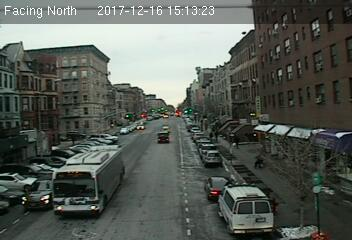bus: (52, 144, 126, 217)
car: (24, 178, 57, 205), (206, 175, 227, 199), (203, 150, 222, 165)
police: (218, 180, 275, 235)
